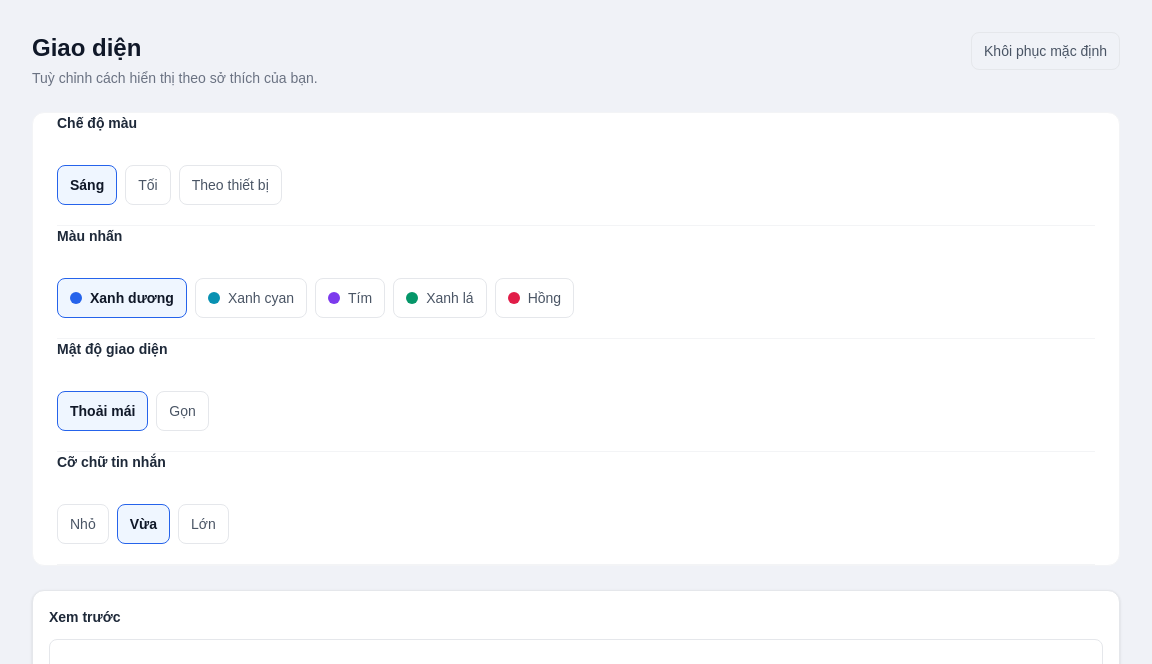
Test: AppearanceSettingsPanel › reverts an optimistic selection and reports an API failure
The image size is (1152, 664).
Click the button "Tối" at (148, 185), box [125, 165, 171, 205]
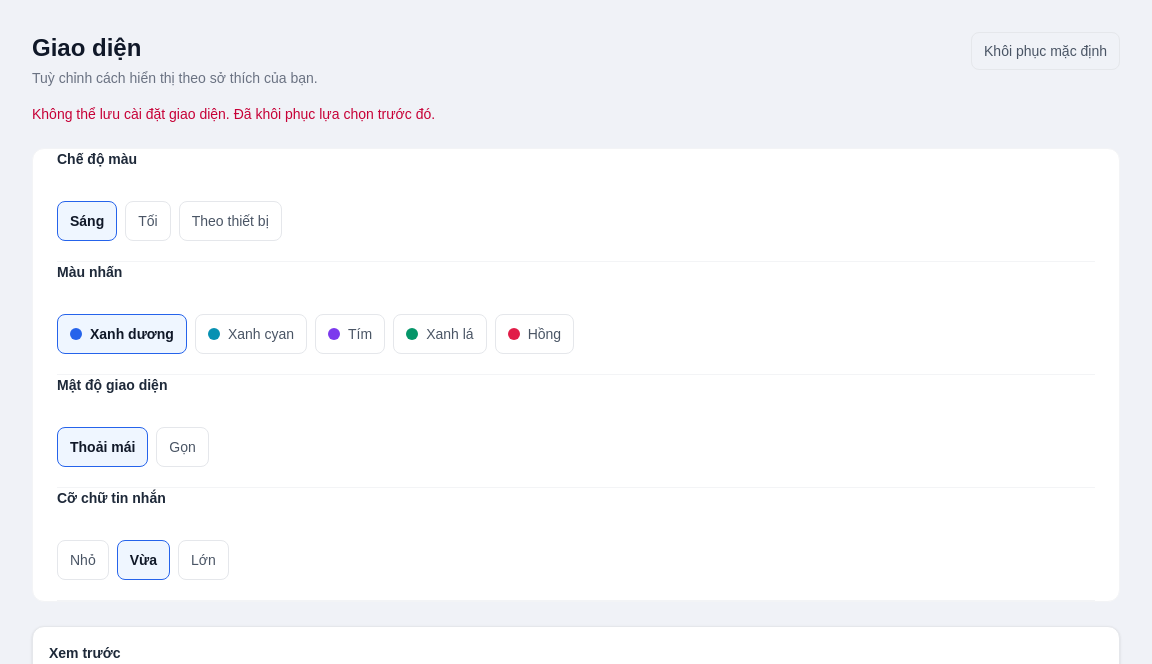
Check: the text "Không thể lưu cài đặt giao diện" is shown, box [32, 106, 435, 122]
